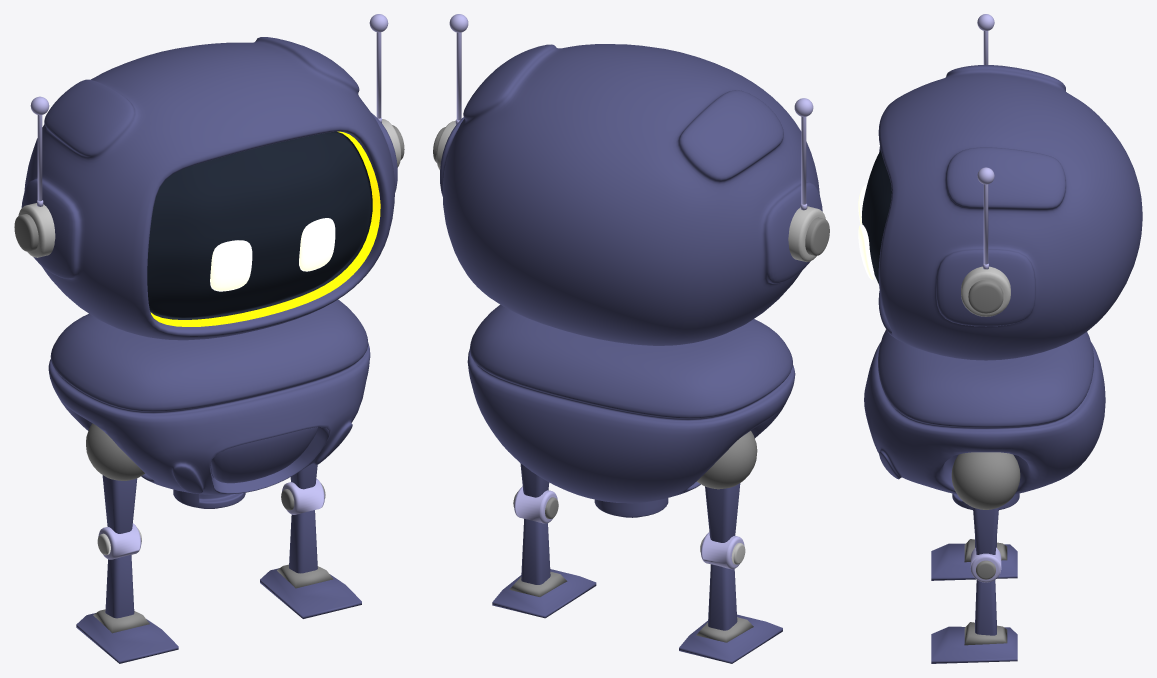
File: Alronald-purple.glb
3 renders of one model, left to right at view 1: azimuth 30°, elevation 25°; view 2: azimuth 150°, elevation 25°; view 3: azimuth 270°, elevation 25°, orthographic. The views are drawn at different scales.
Visible parts, largest first — view 1: 立方体, 立方体.001, 平面, 立方体.005, 立方体.017, 球体.005, 柱体.002, 立方体.019, 立方体.011, 立方体.014, 柱体, 柱体.011 (+5 smaller); view 2: 立方体, 立方体.001, 立方体.005, 立方体.017, 球体.005, 柱体.002, 立方体.011, 立方体.019, 立方体.014, 柱体, 柱体.022, 柱体.011 (+5 smaller); view 3: 立方体, 立方体.001, 球体.002, 立方体.005, 立方体.017, 柱体.002, 立方体.011, 柱体, 立方体.002, 柱体.001, 平面, 立方体.008 (+1 smaller).
Part boxes in pixels (x1,y1,x2,y2): 立方体: [21, 37, 397, 340]; 立方体.001: [48, 299, 370, 494]; 平面: [210, 218, 335, 291]; 立方体.005: [260, 568, 361, 618]; 立方体.017: [76, 613, 178, 663]; 球体.005: [86, 423, 145, 480]; 柱体.002: [30, 14, 388, 206]; 立方体.019: [105, 555, 134, 618]; 立方体.011: [289, 510, 317, 573]; 立方体.014: [102, 475, 137, 533]; 柱体: [18, 119, 401, 257]; 柱体.011: [282, 478, 324, 514]; 立方体: [440, 44, 822, 345]; 立方体.001: [467, 304, 795, 503]; 立方体.005: [492, 569, 596, 618]; 立方体.017: [679, 614, 782, 663]; 球体.005: [697, 431, 757, 489]; 柱体.002: [449, 14, 813, 210]; 立方体.011: [521, 519, 550, 584]; 立方体.019: [708, 564, 737, 630]; 立方体.014: [705, 483, 740, 542]; 柱体: [436, 121, 825, 261]; 柱体.022: [594, 498, 668, 517]; 柱体.011: [514, 486, 557, 523]; 立方体: [862, 65, 1142, 360]; 立方体.001: [864, 329, 1105, 494]; 球体.002: [951, 452, 1020, 509]; 立方体.005: [931, 626, 1017, 663]; 立方体.017: [931, 543, 1017, 580]; 柱体.002: [977, 14, 994, 269]; 立方体.011: [975, 580, 996, 635]; 柱体: [961, 266, 1010, 316]; 立方体.002: [973, 507, 998, 554]; 柱体.001: [968, 280, 1003, 313]; 平面: [858, 185, 874, 279]; 立方体.008: [964, 622, 1007, 645].
Size of the model in its own units: 2.05 by 2.92 by 1.45.
